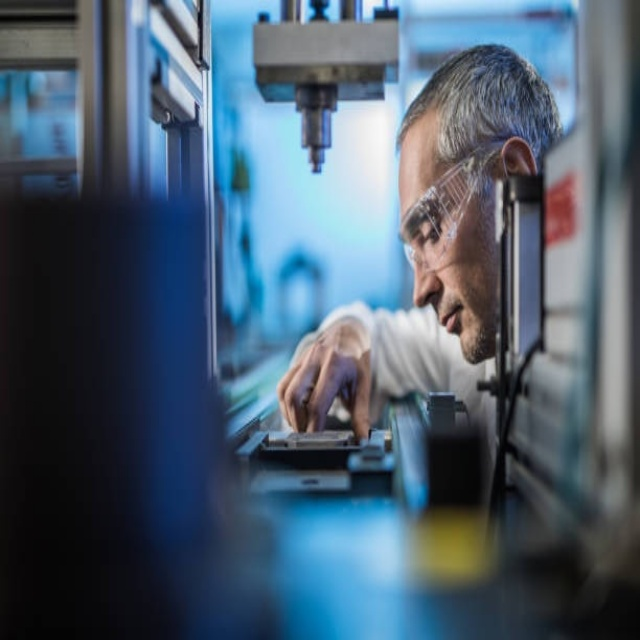Gafas: (399, 148, 509, 274)
Sin_guantes: (277, 319, 372, 443)
Sin_mascara: (429, 293, 486, 364)
